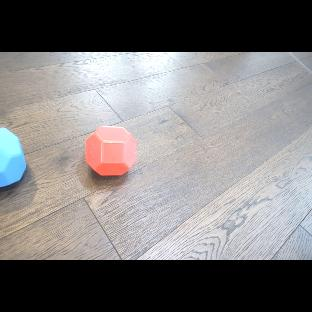V5_BLUE: (0, 126, 27, 188)
V5_RED: (85, 126, 137, 176)
